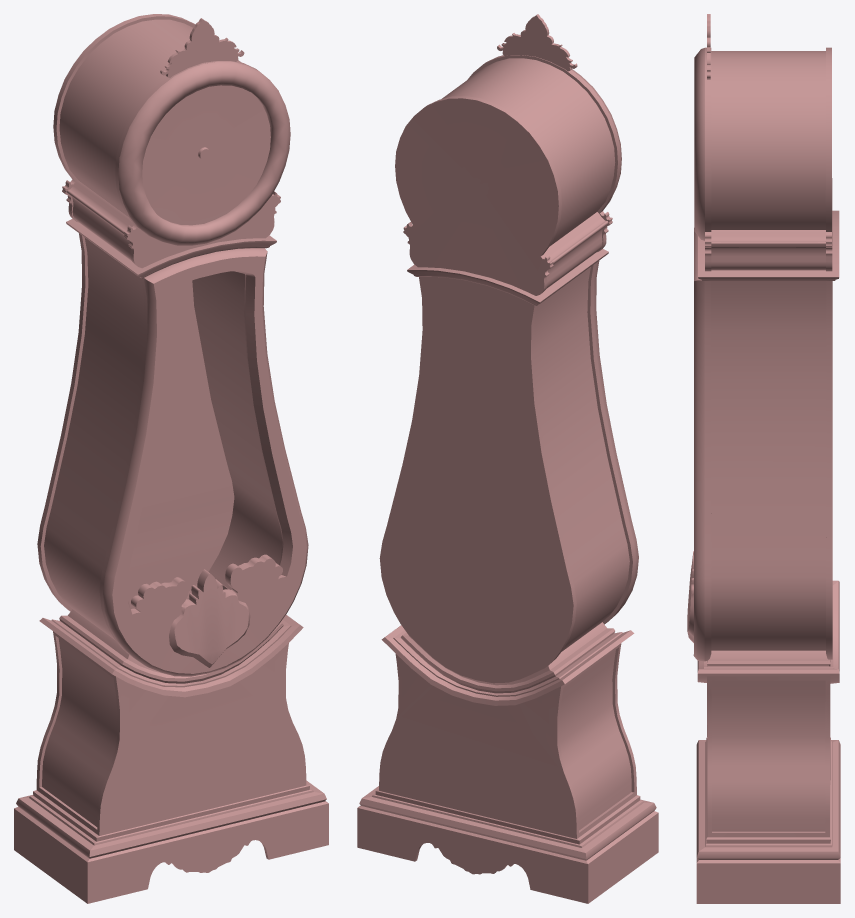
File: SM_GFClock_01h.FBX
3 views of the same model, side by side, from view 1: azimuth 30°, elevation 25°; view 2: azimuth 150°, elevation 25°; view 3: azimuth 270°, elevation 25° (orthographic). The views are drawn at different scales.
Parts seen in each view (by area): view 1: SM_GFClock_01h_SM_GFClock_01a_LOD0; view 2: SM_GFClock_01h_SM_GFClock_01a_LOD0; view 3: SM_GFClock_01h_SM_GFClock_01a_LOD0.
Part boxes in pixels (x1,y1,x2,y2): SM_GFClock_01h_SM_GFClock_01a_LOD0: [14, 14, 328, 903]; SM_GFClock_01h_SM_GFClock_01a_LOD0: [357, 14, 658, 903]; SM_GFClock_01h_SM_GFClock_01a_LOD0: [687, 14, 840, 903].
Size of what is drawn, in the model's own units: 68.15 by 230 by 38.35.
